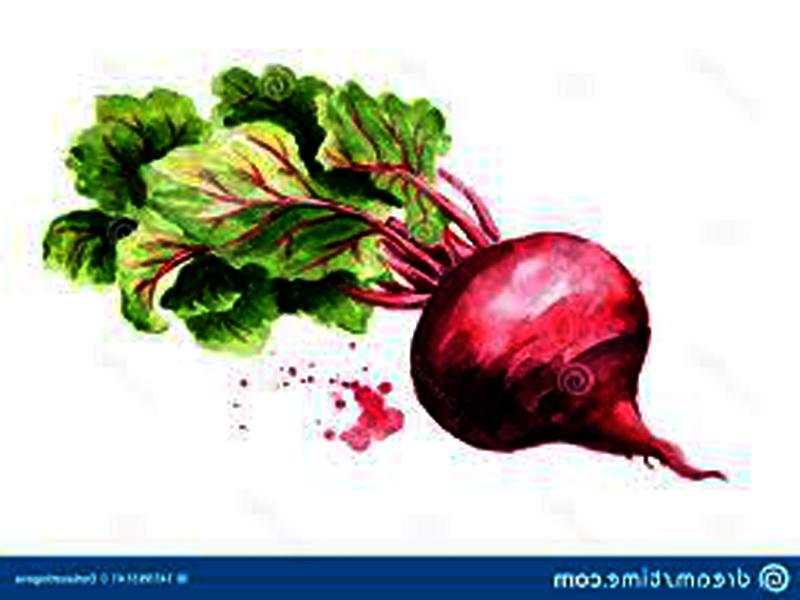Beet: (39, 64, 721, 481)
